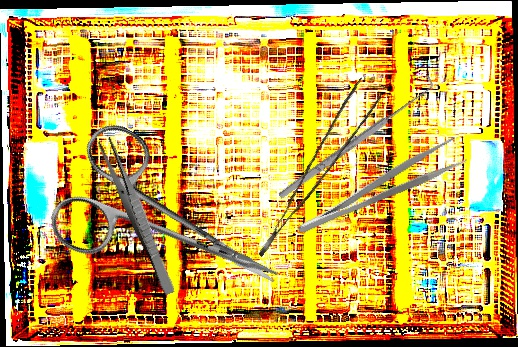Dressing Forceps: (288, 134, 469, 239), (95, 135, 181, 297)
Hook Surgical: (272, 74, 439, 202)
Iris Scissors: (40, 115, 306, 342)
Tissue Forceps: (231, 77, 392, 257)
